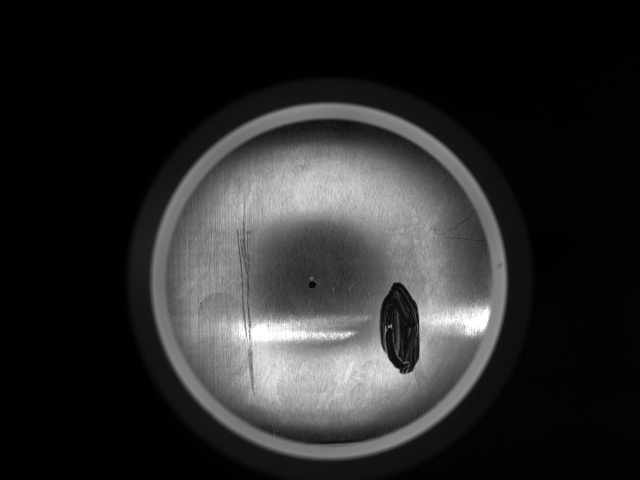ca_shang: (228, 188, 262, 399)
zang_wu: (380, 279, 420, 373)
zhen_kong: (306, 275, 316, 293)
